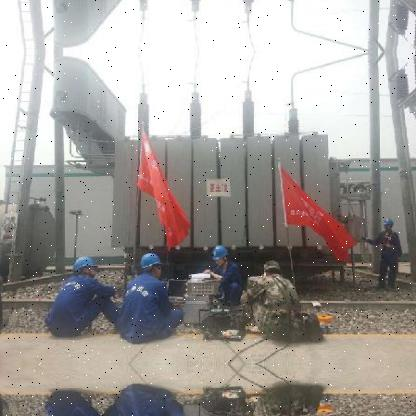helmet: (73, 253, 100, 277), (140, 250, 165, 275), (210, 240, 231, 264), (383, 215, 396, 233)
